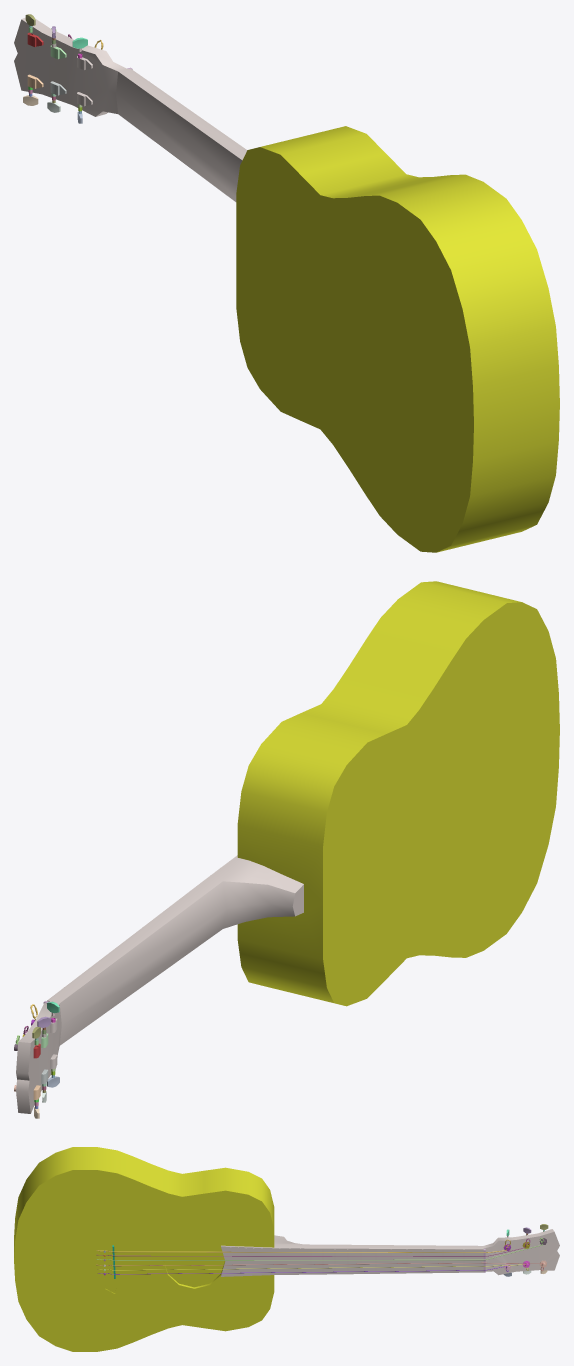
3 renders of one model, top to bottom at view 1: azimuth 30°, elevation 25°; view 2: azimuth 150°, elevation 25°; view 3: azimuth 270°, elevation 25°, orthographic. The views are drawn at different scales.
Parts seen in each view (by area): view 1: split_parent_0, split_parent_4; view 2: split_parent_0, split_parent_4; view 3: split_parent_0, split_parent_4, split_parent_49, split_parent_47, split_parent_3, split_parent_48, split_parent_45, split_parent_46.
Boxes of the visible parts, <box> form: split_parent_0: <box>236,126,559,552</box>; split_parent_4: <box>14,17,247,201</box>; split_parent_0: <box>237,581,559,1006</box>; split_parent_4: <box>16,855,303,1113</box>; split_parent_0: <box>14,1147,274,1351</box>; split_parent_4: <box>221,1229,559,1276</box>; split_parent_49: <box>96,1239,510,1252</box>; split_parent_47: <box>96,1238,543,1260</box>; split_parent_3: <box>96,1262,543,1270</box>; split_parent_48: <box>96,1238,530,1256</box>; split_parent_45: <box>97,1264,528,1270</box>; split_parent_46: <box>98,1266,508,1274</box>.
Size of the model in its own units: 0.1096 by 0.3673 by 1.
